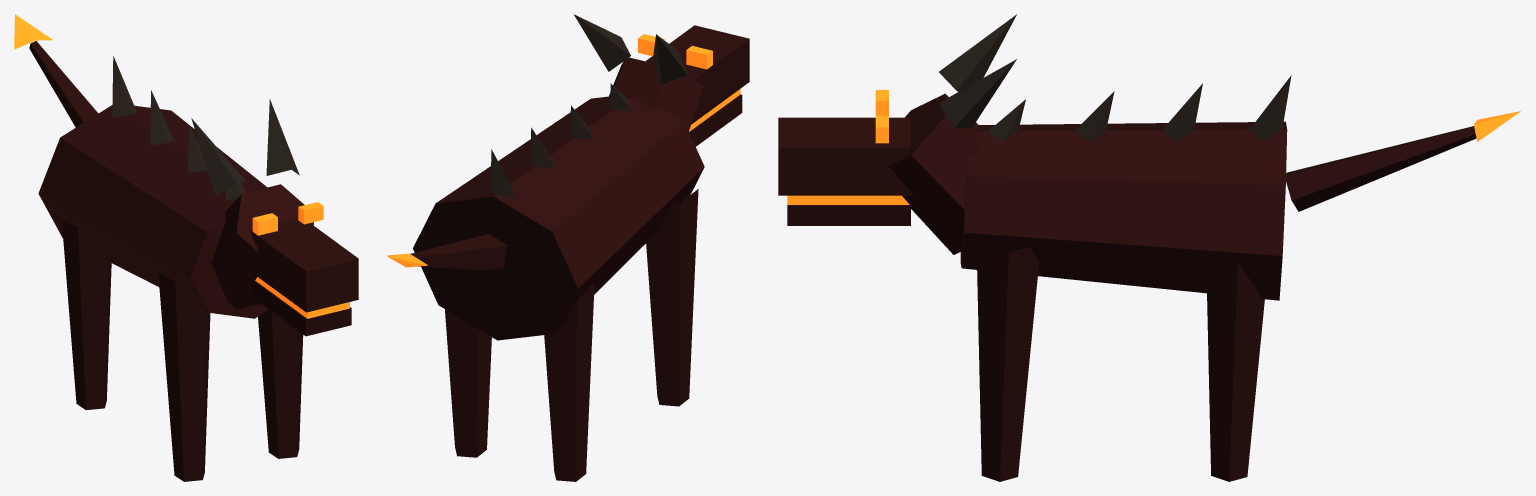
The model's file is hellhound.glb.
The picture shows the model from 3 angles, left to right: view 1: azimuth 30°, elevation 25°; view 2: azimuth 150°, elevation 25°; view 3: azimuth 270°, elevation 25°; orthographic projection. The views are drawn at different scales.
Parts seen in each view (by area): view 1: hellhound_body, hellhound_head, hellhound_leg_fr, hellhound_leg_br, hellhound_leg_fl, hellhound_tail; view 2: hellhound_body, hellhound_head, hellhound_leg_fr, hellhound_leg_br, hellhound_leg_bl, hellhound_tail; view 3: hellhound_body, hellhound_head, hellhound_leg_fl, hellhound_leg_bl, hellhound_tail.
Part boxes in pixels (x1,y1,x2,y2): hellhound_body: [38, 56, 268, 318]; hellhound_head: [191, 99, 358, 336]; hellhound_leg_fr: [158, 271, 210, 481]; hellhound_leg_br: [62, 221, 111, 410]; hellhound_leg_fl: [258, 309, 303, 458]; hellhound_tail: [14, 14, 98, 127]; hellhound_body: [413, 83, 704, 340]; hellhound_head: [574, 14, 749, 146]; hellhound_leg_fr: [646, 189, 698, 406]; hellhound_leg_br: [544, 282, 594, 481]; hellhound_leg_bl: [445, 309, 491, 457]; hellhound_tail: [387, 234, 507, 270]; hellhound_body: [960, 75, 1291, 300]; hellhound_head: [778, 14, 1016, 254]; hellhound_leg_fl: [976, 244, 1039, 481]; hellhound_leg_bl: [1207, 262, 1264, 481]; hellhound_tail: [1286, 111, 1520, 211].
Bounding box in the file's own units: 0.48 × 1.03 × 1.68.
